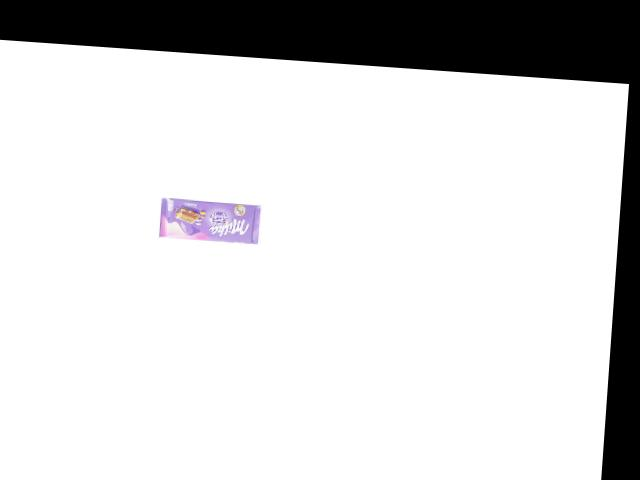chocolate: (159, 196, 261, 244)
